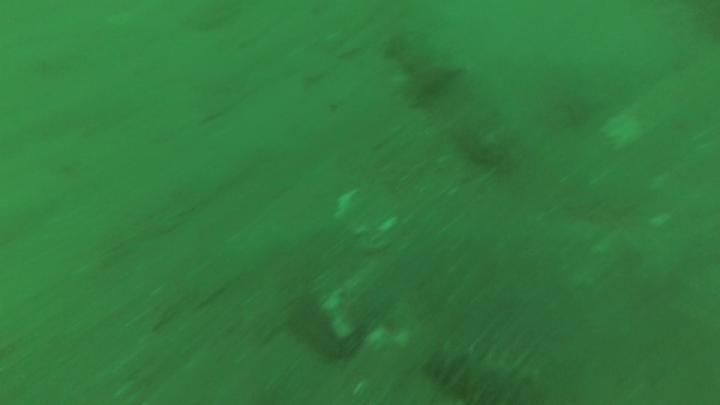holothurian: (421, 327, 545, 405)
